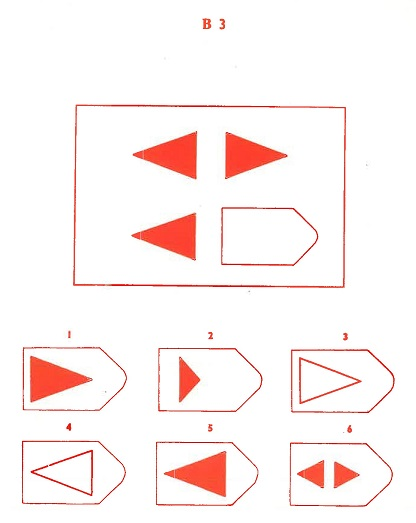Array 1: (18, 326, 131, 415)
Array 2: (152, 327, 266, 416)
Array 3: (285, 329, 398, 416)
Array 4: (18, 419, 131, 509)
Array 5: (151, 420, 264, 509)
Array 6: (285, 420, 396, 511)
Matrix 1: (126, 124, 203, 184)
Matrix 2: (220, 123, 293, 185)
Matrix 3: (125, 205, 203, 265)
Matrix Unknown: (217, 202, 323, 268)
